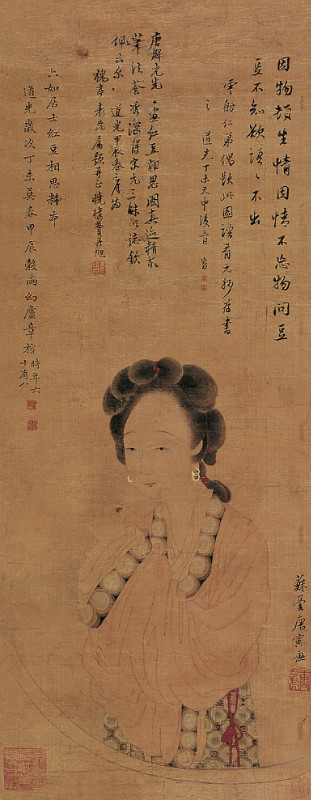decoration: (224, 694, 246, 766)
woman: (97, 366, 266, 773)
